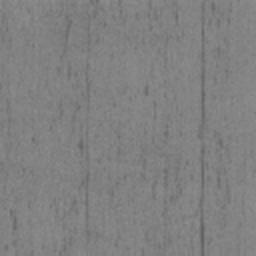Scratches: (196, 0, 206, 256)
